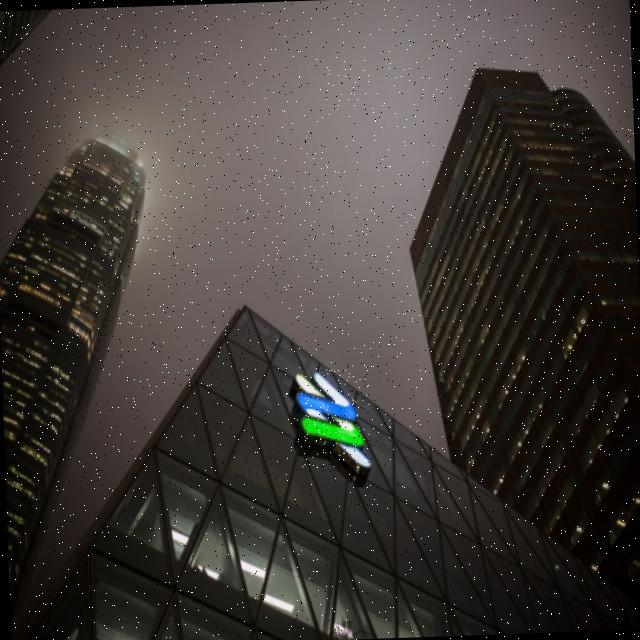Standard Chartered: (294, 365, 372, 470)
